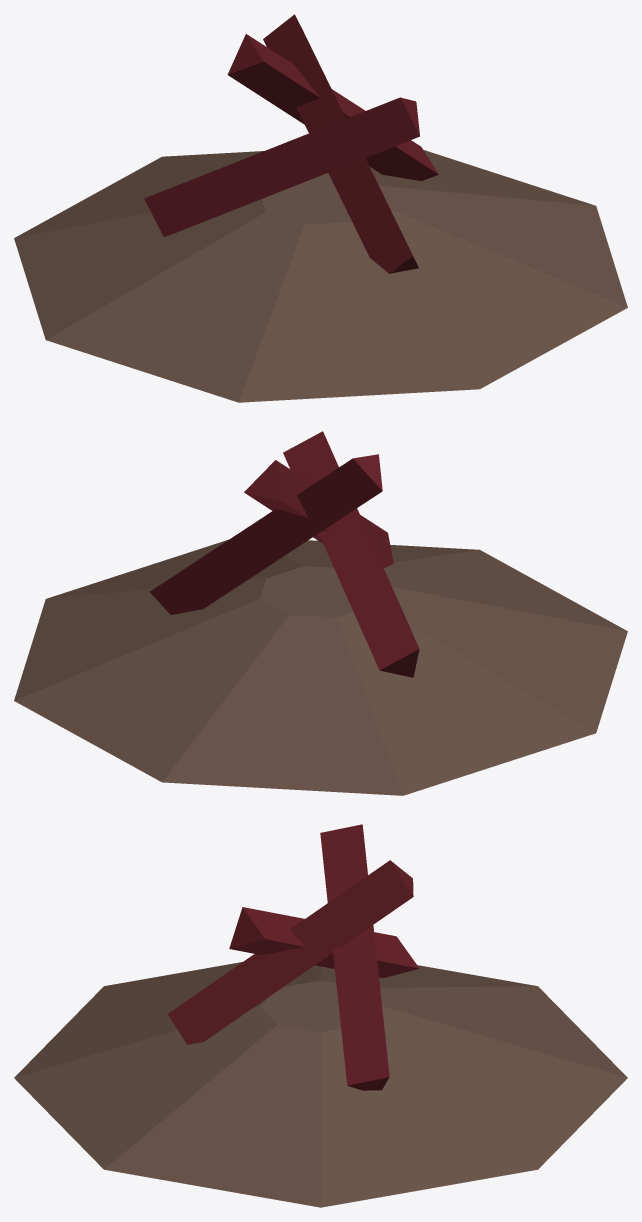
Rendered from campfire.fbx.
The picture shows the model from 3 angles, top to bottom: view 1: azimuth 30°, elevation 25°; view 2: azimuth 150°, elevation 25°; view 3: azimuth 270°, elevation 25°; orthographic projection. The views are drawn at different scales.
Parts seen in each view (by area): view 1: Dirt Mound, Cylinder.001, Cylinder, Cylinder.002; view 2: Dirt Mound, Cylinder.002, Cylinder.001, Cylinder; view 3: Dirt Mound, Cylinder, Cylinder.002, Cylinder.001.
Boxes of the visible parts, box(x1,y1,x2,y2) form: Dirt Mound: box(14, 150, 627, 402); Cylinder.001: box(144, 97, 419, 236); Cylinder: box(263, 14, 418, 273); Cylinder.002: box(227, 34, 438, 180); Dirt Mound: box(14, 539, 627, 795); Cylinder.002: box(150, 454, 382, 614); Cylinder.001: box(283, 431, 419, 677); Cylinder: box(244, 460, 393, 567); Dirt Mound: box(14, 962, 627, 1207); Cylinder: box(168, 860, 413, 1044); Cylinder.002: box(320, 824, 389, 1090); Cylinder.001: box(229, 907, 419, 977).
Size of the model in its own units: 200 by 82.13 by 200.
